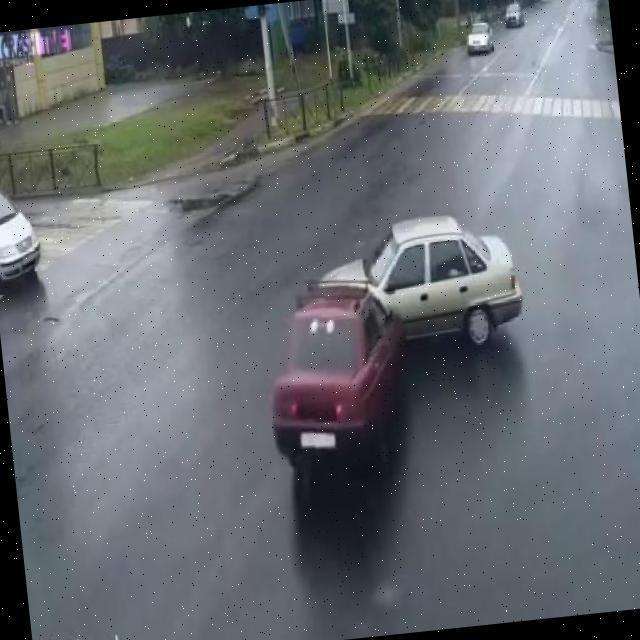accident: (249, 214, 515, 386)
